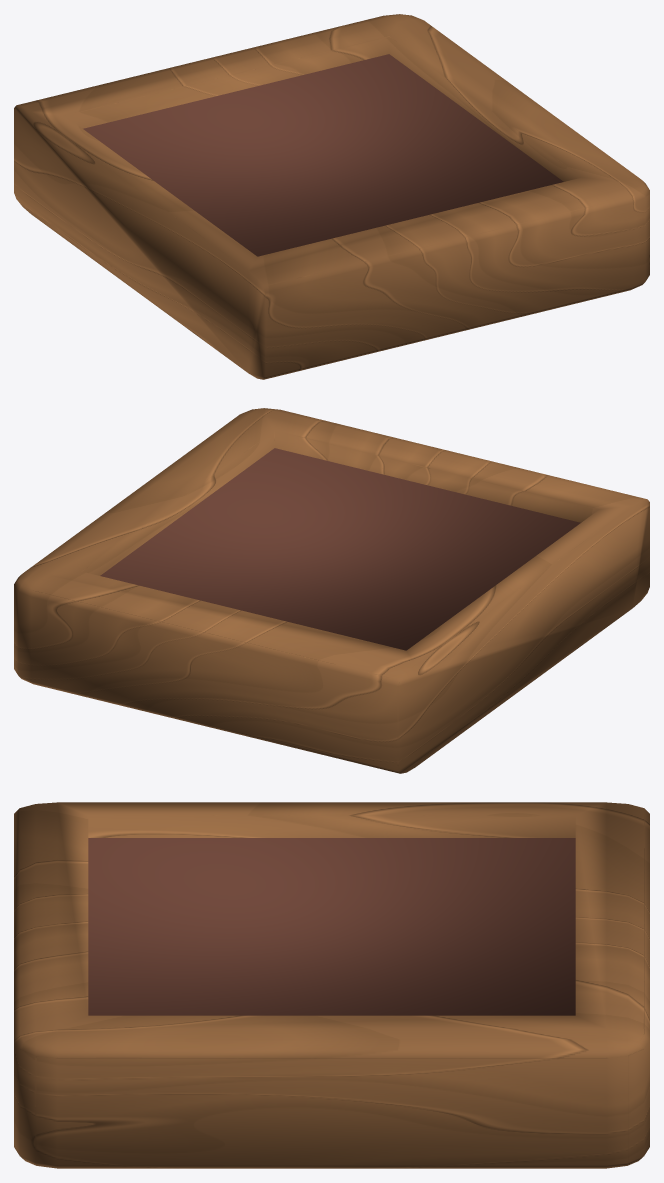
The model's file is OneCubee1.fbx.
3 views of the same model, one above another, from view 1: azimuth 30°, elevation 25°; view 2: azimuth 150°, elevation 25°; view 3: azimuth 270°, elevation 25° (orthographic). The views are drawn at different scales.
Parts seen in each view (by area): view 1: Cubee.001; view 2: Cubee.001; view 3: Cubee.001.
Part boxes in pixels (<box>): Cubee.001: <box>14,14,649,379</box>; Cubee.001: <box>14,408,649,773</box>; Cubee.001: <box>14,802,649,1168</box>.
Bounding box in the file's own units: 8.74 × 2.16 × 9.61.
